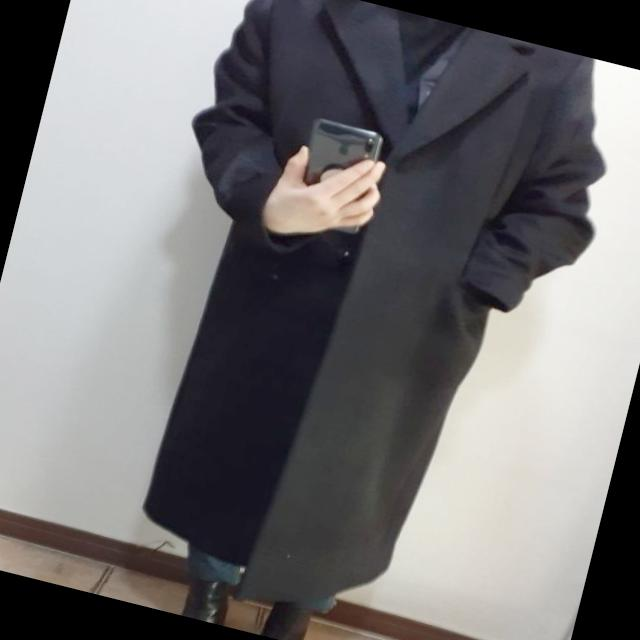coat: (84, 0, 637, 640)
